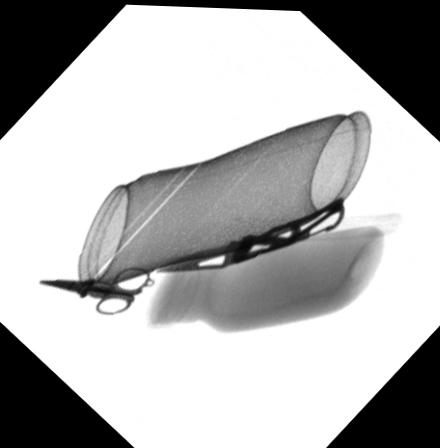Knife: (153, 193, 342, 270)
Scissors: (36, 265, 151, 315)
